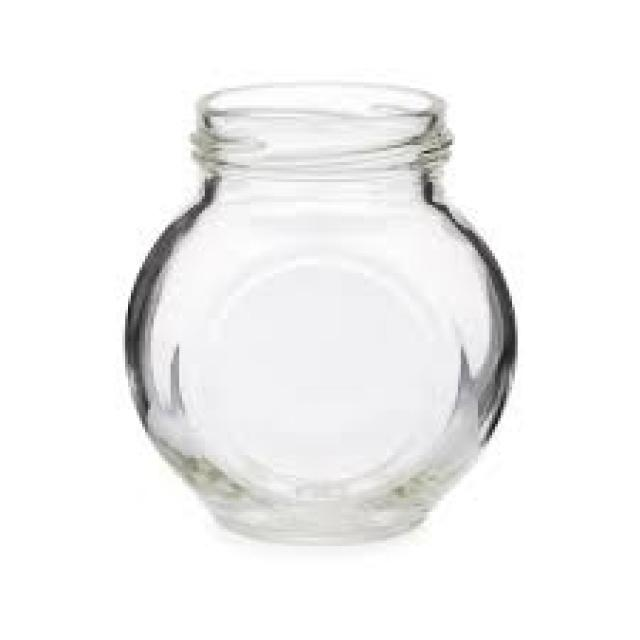Glass-Non-Biodegradable but Recyclable-: (122, 104, 517, 558)
